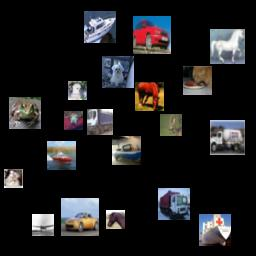airplane: (32, 214, 54, 236)
automobile: (61, 198, 99, 236), (133, 16, 171, 54)
cat: (183, 66, 212, 95), (4, 169, 23, 188)
deer: (160, 114, 182, 136)
dog: (102, 56, 134, 88), (68, 81, 87, 100), (64, 111, 83, 130)
frog: (9, 97, 41, 129)
ship: (84, 11, 116, 43), (199, 214, 231, 246), (47, 141, 76, 170), (112, 136, 141, 165)
truck: (210, 120, 245, 155), (158, 188, 190, 220), (87, 109, 113, 135)
